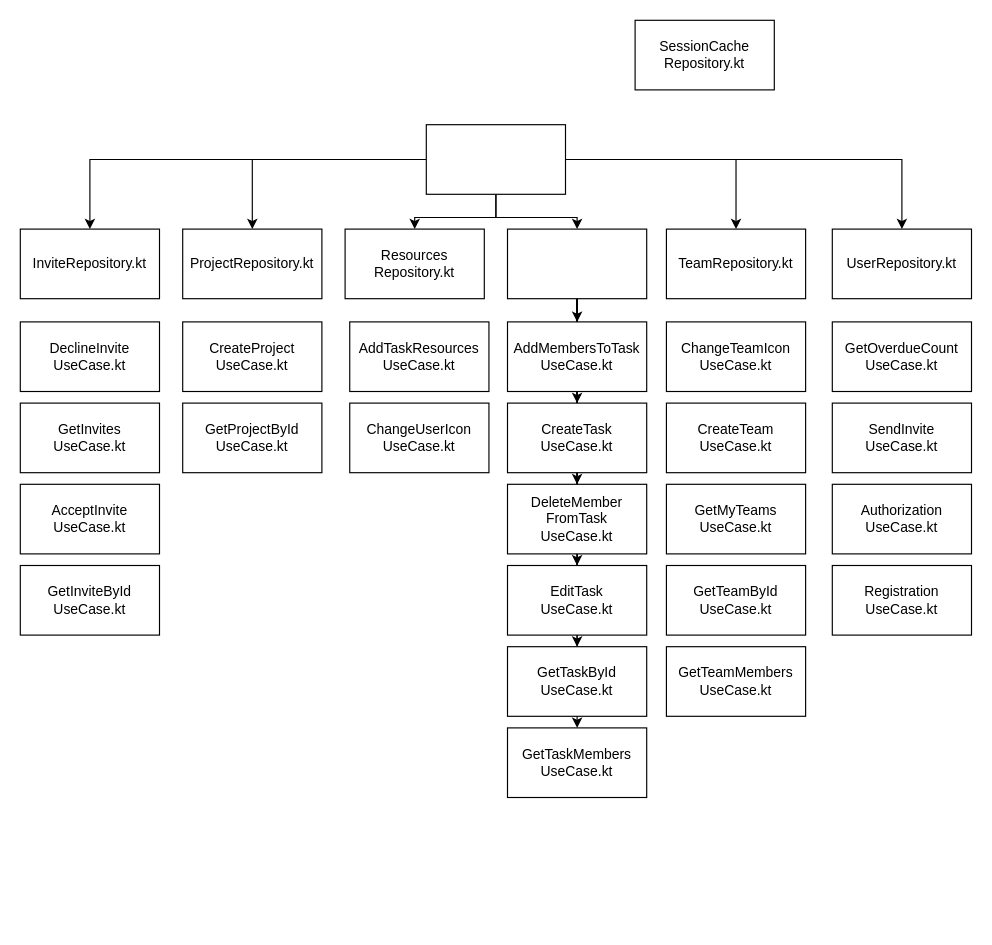
Some shapes in this 992 by 945 pixel diagram are drawn without their labels. Here are the shapes that lost their labels. From the top down, the box of each, then its label:
(425, 124, 566, 194): ApiService.kt
(506, 228, 647, 299): TaskRepository.kt
